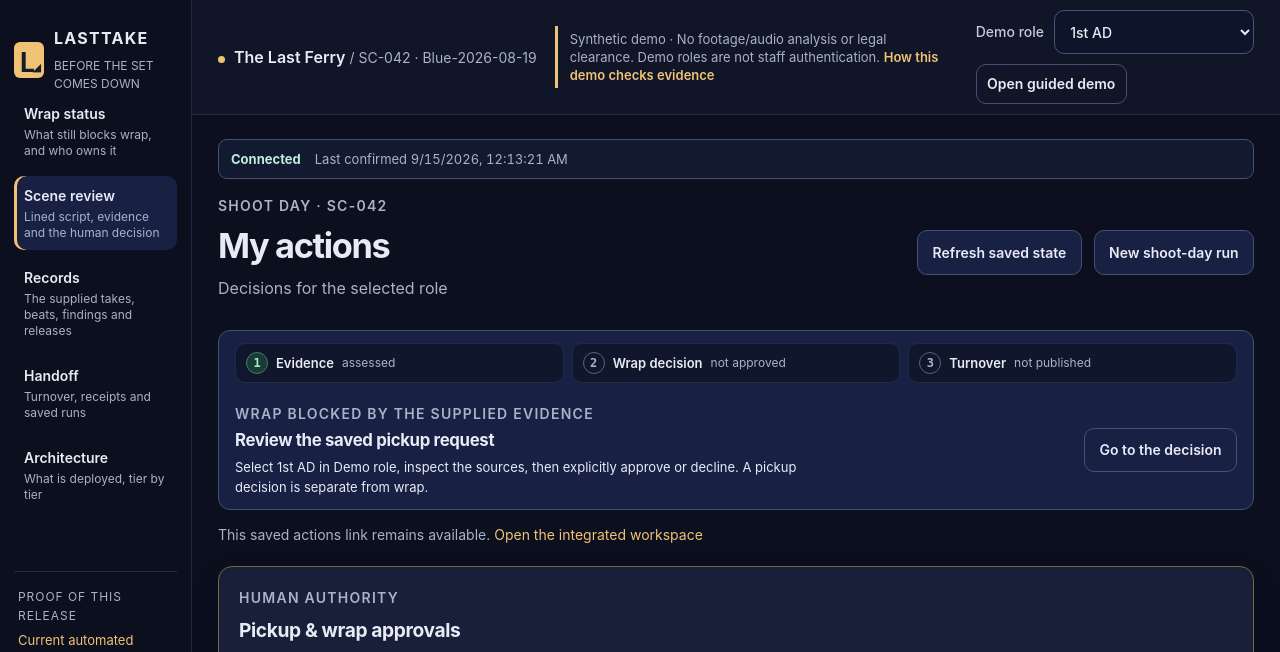
shows the saved approval message in the waiting style while a request still waits
The image size is (1280, 652).
Select "1st AD" in the dropdown labelled "Demo role" at (1154,32), box [1054,10,1254,54]
(page scrolled)
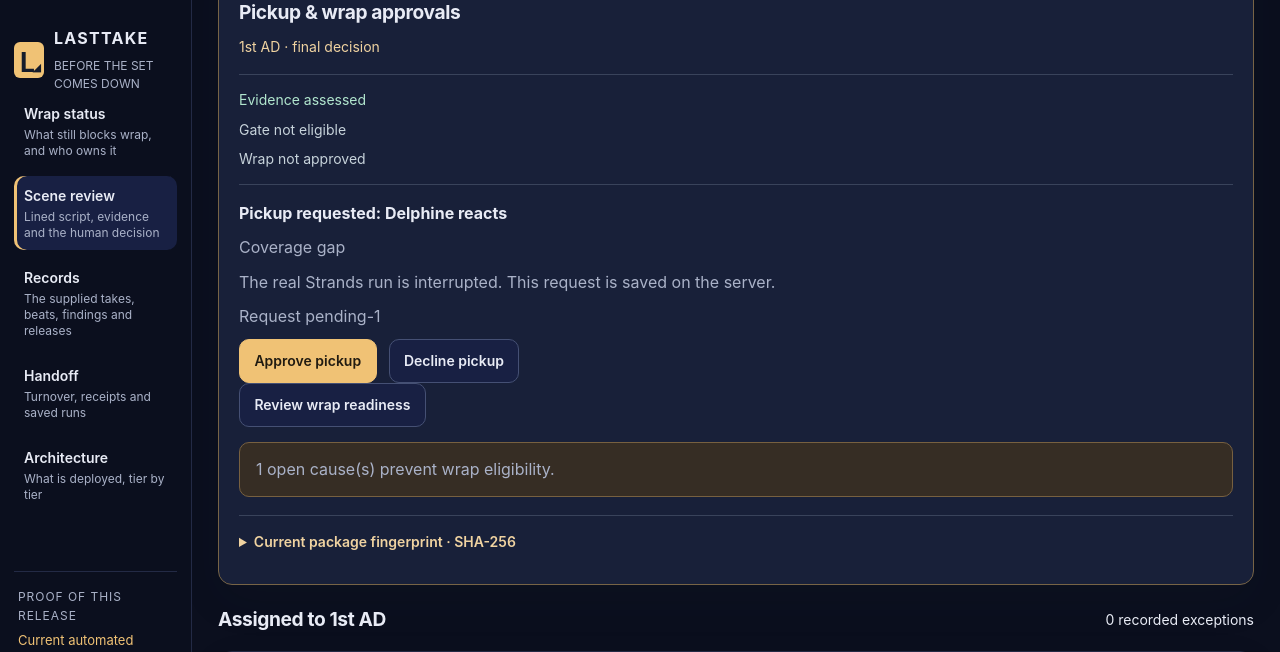
Click the button "Approve pickup" at (308,361), box [239,338,377,383]
(page scrolled)
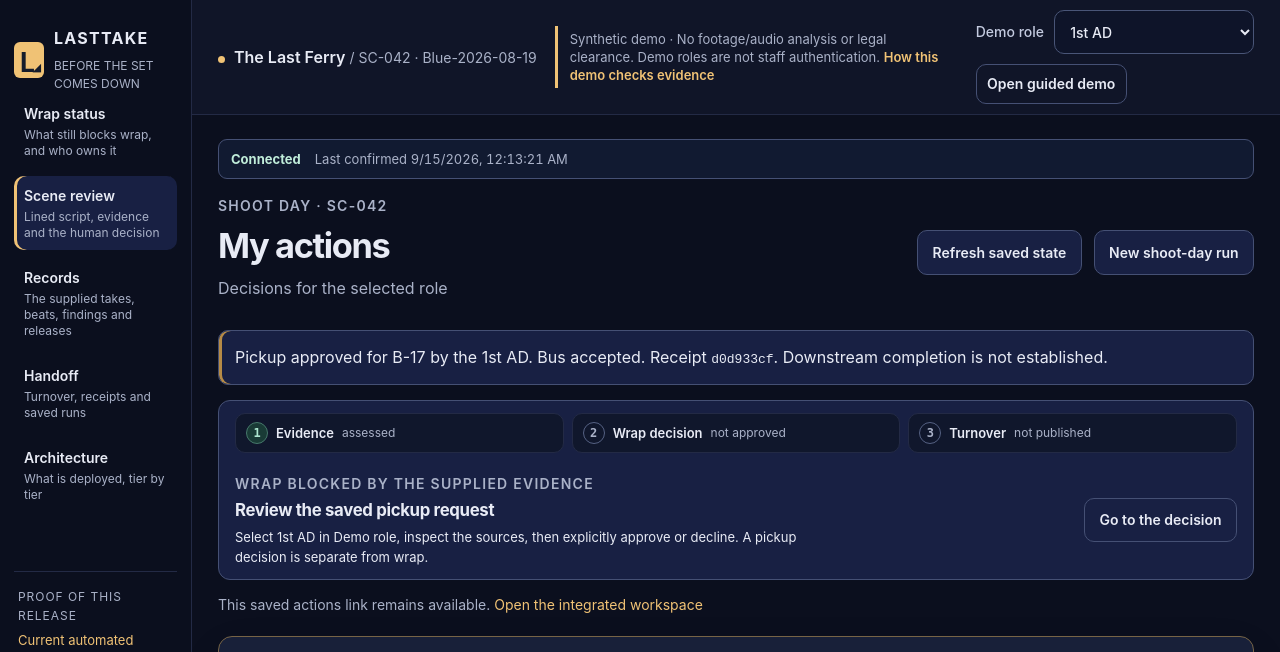
expect the message titled "d0d933cf-1159-4284-a601-a3cb3ed05846" shows "Pickup approved for B-17 by the 1st AD. Bus accepted. Receipt d0d933cf. Downstream completion is not established.": met, box [218,330,1254,385]
